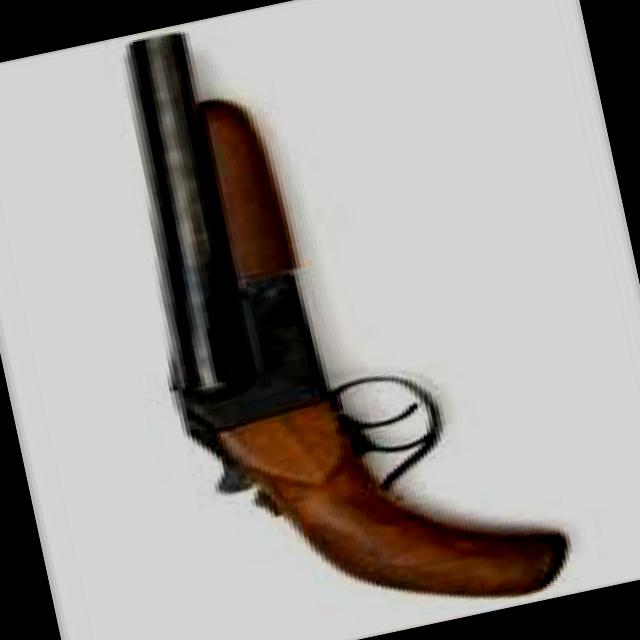long weapon: (73, 9, 623, 640)
